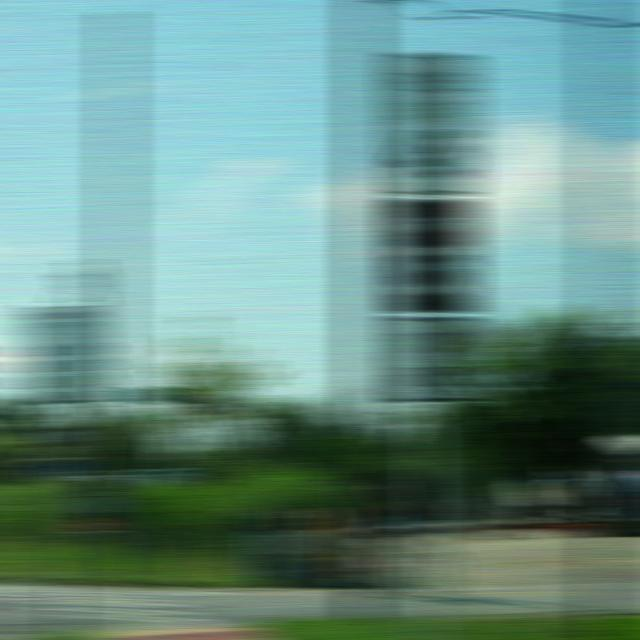speedLimit45: (386, 54, 479, 198)
